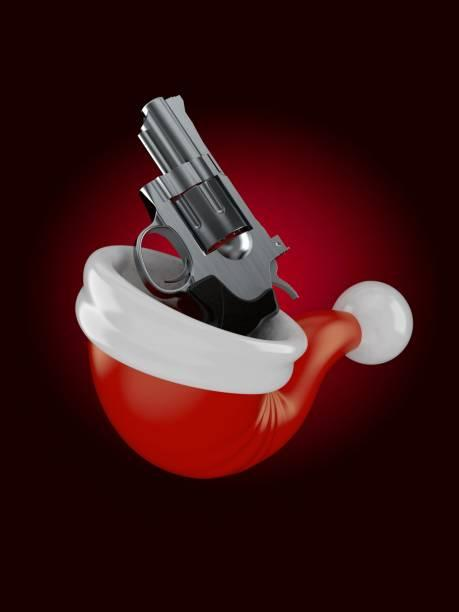weapon: (125, 89, 299, 342)
